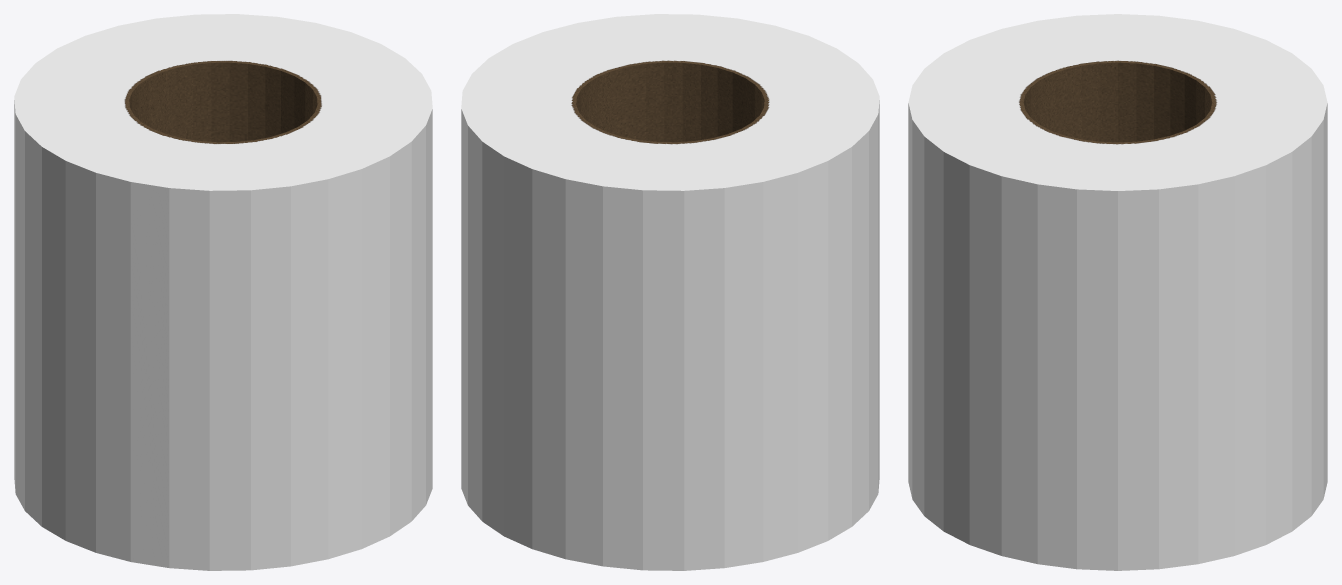
Rendered from Paper.fbx.
The picture shows the model from 3 angles, left to right: view 1: azimuth 30°, elevation 25°; view 2: azimuth 150°, elevation 25°; view 3: azimuth 270°, elevation 25°; orthographic projection.
Visible parts, largest first — view 1: Paper_Baked; view 2: Paper_Baked; view 3: Paper_Baked.
Part boxes in pixels (box(x1,y1,x2,y2)): Paper_Baked: box(14, 14, 432, 570); Paper_Baked: box(461, 14, 879, 570); Paper_Baked: box(908, 14, 1327, 570).
Size of the model in its own units: 10 by 10 by 10.
1 material, 1 textured.
